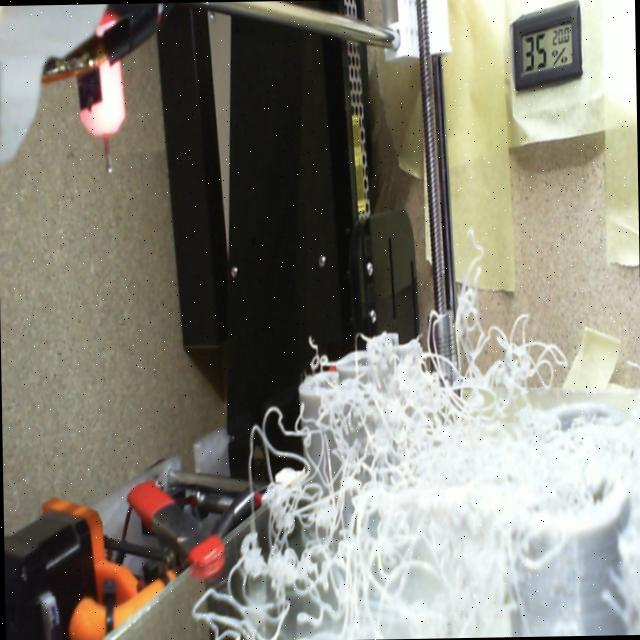spaghetti: (191, 217, 640, 640)
